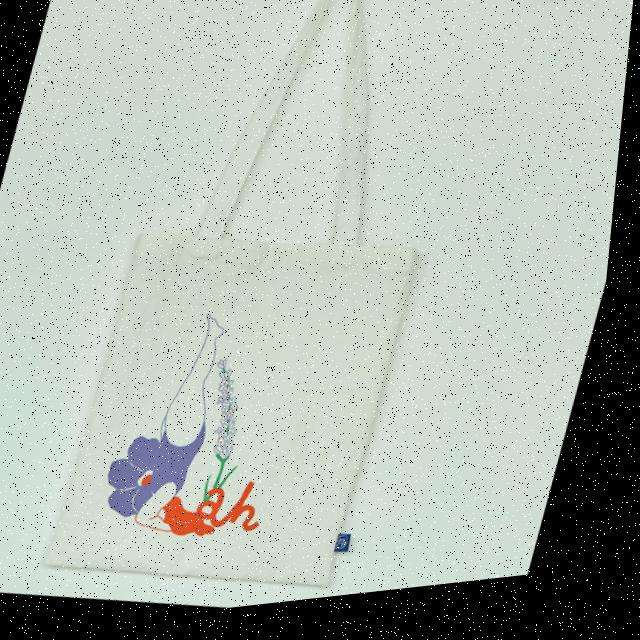ecobag: (38, 0, 510, 632)
